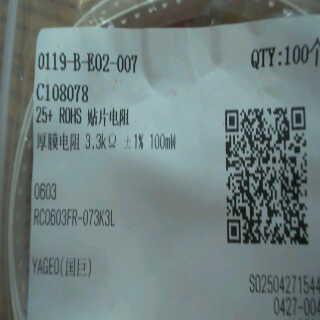3.3kO: (79, 128, 120, 154)
